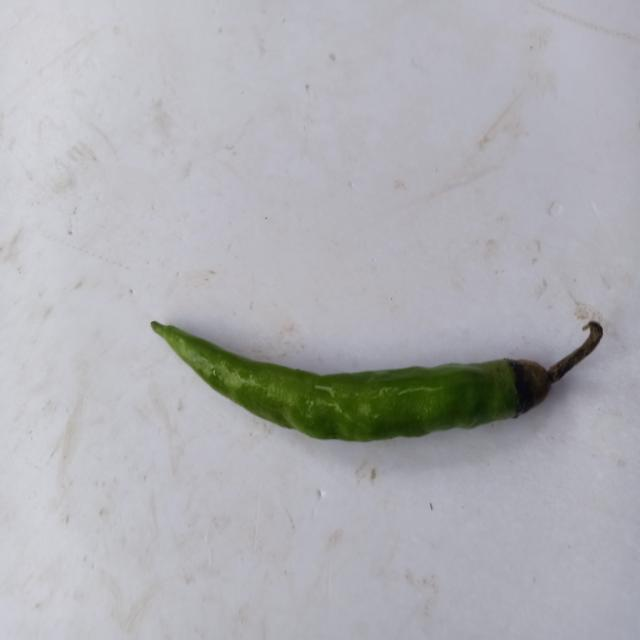Green Chilly: (151, 321, 604, 441)
